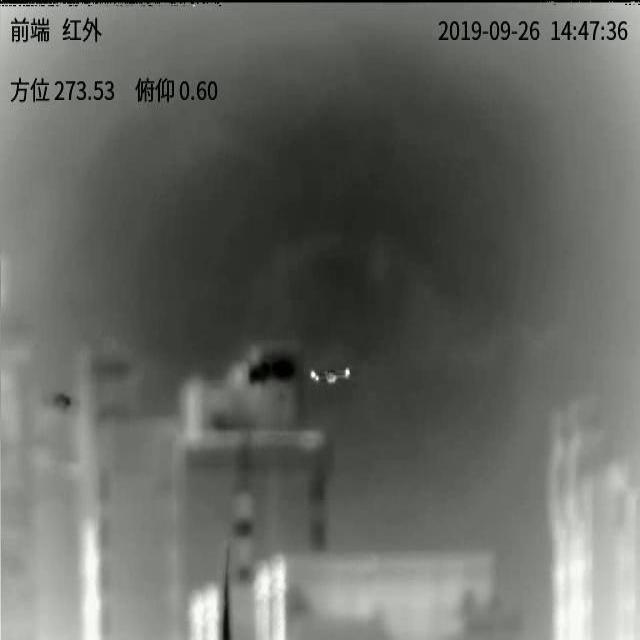drone: (309, 367, 351, 384)
